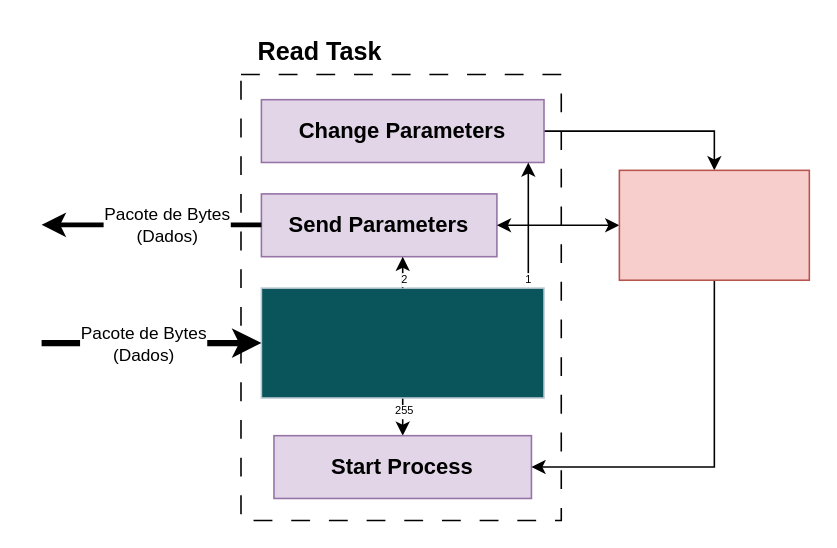
Some shapes in this 837 by 548 pixel diagram are drawn without their labels. The box of each missing label's shape, as (x1, y1, x2, y2) in pixels:
Parameters: (618, 169, 809, 280)
Task Handler: (260, 287, 544, 398)
